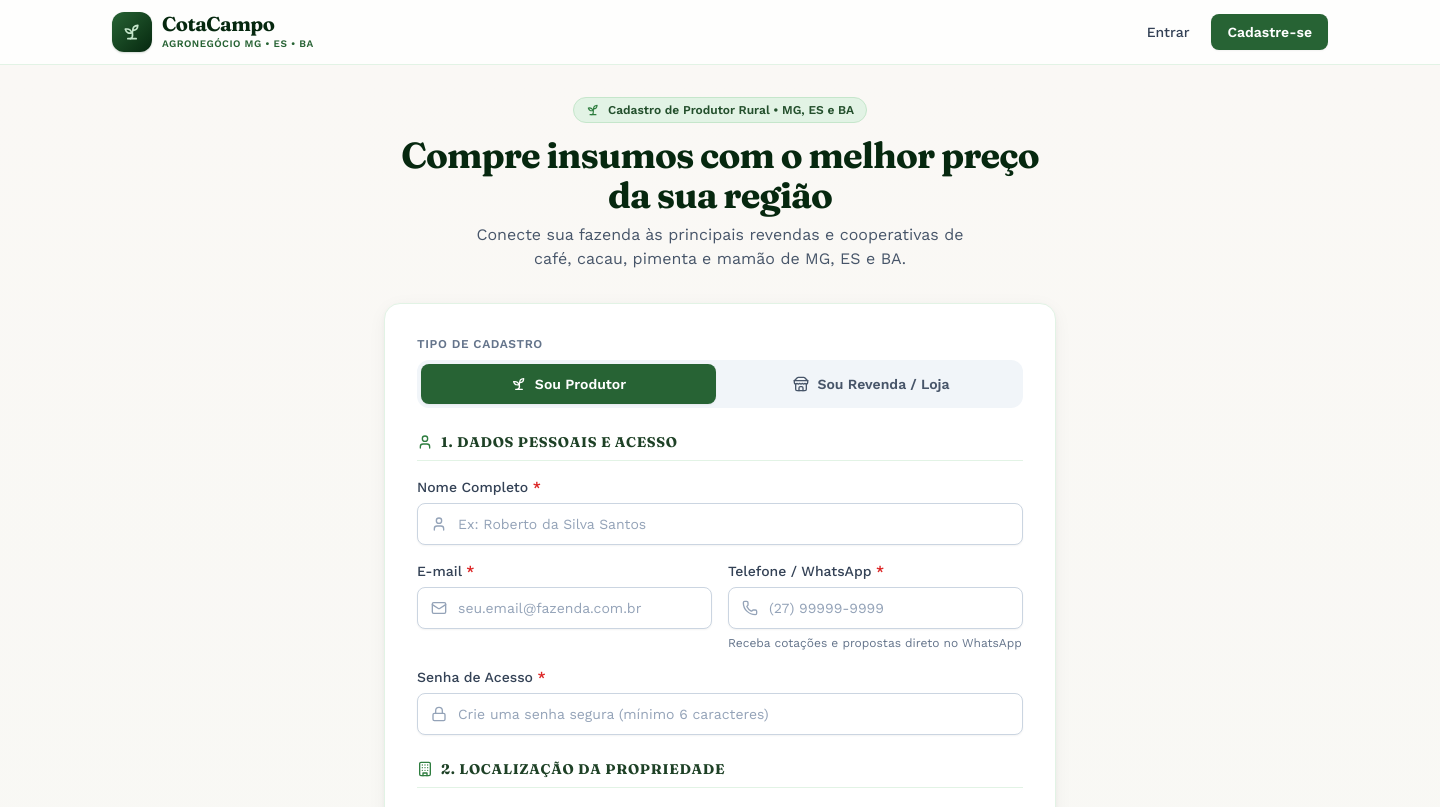
RegisterPage (US01 & US01.1 - Detalhamento de Área Plantada e Escala por Cultura) › deve aplicar máscara no WhatsApp conforme o produtor digita
This screenshot has width=1440, height=807.
In the field labelled "Telefone / WhatsApp *": coordinates (876, 608) [728, 587, 1023, 629], type "27998"
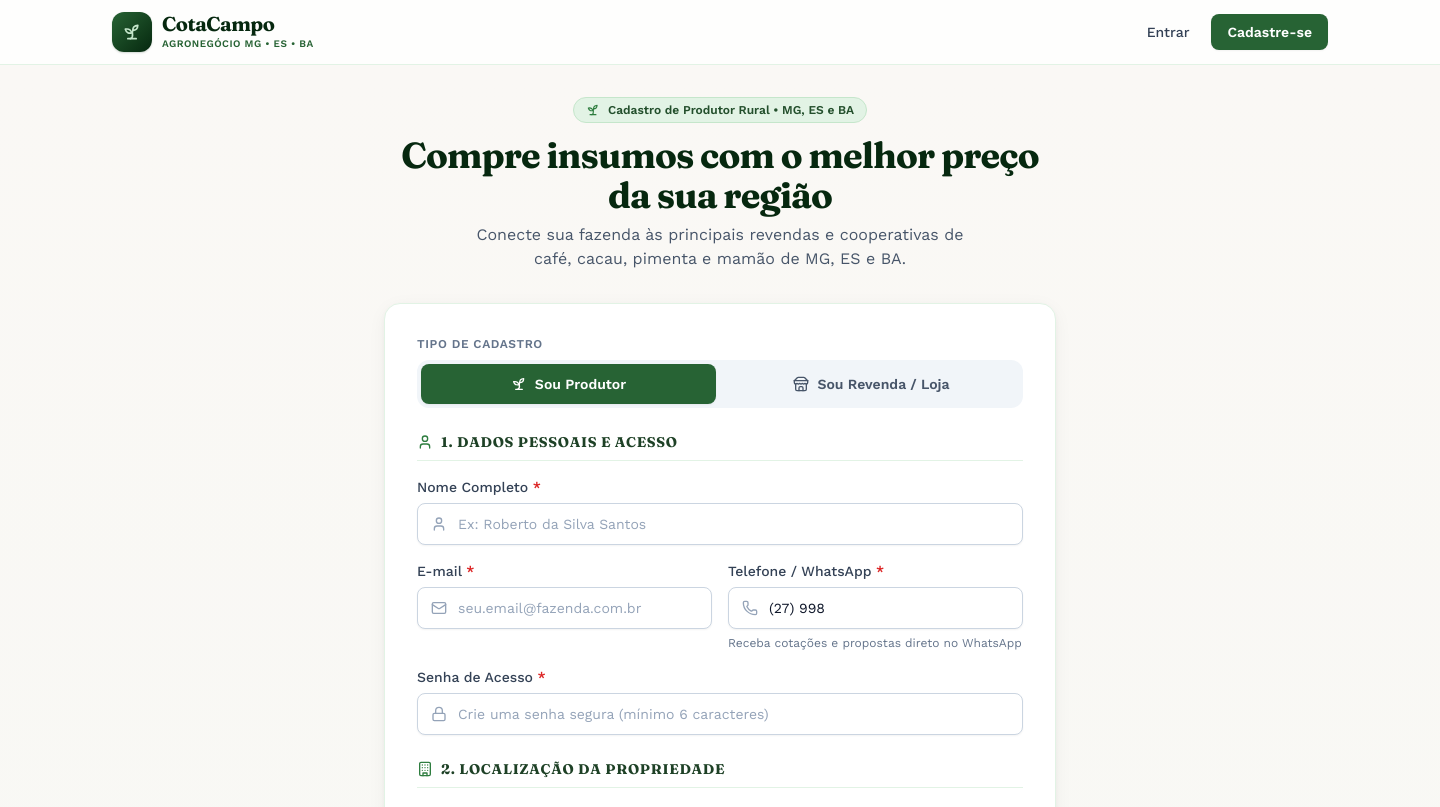
Now the field labelled "Telefone / WhatsApp *" holds "(27) 998"
Replace the text in the field labelled "Telefone / WhatsApp *" with "27998765432": coordinates (876, 608) [728, 587, 1023, 629]
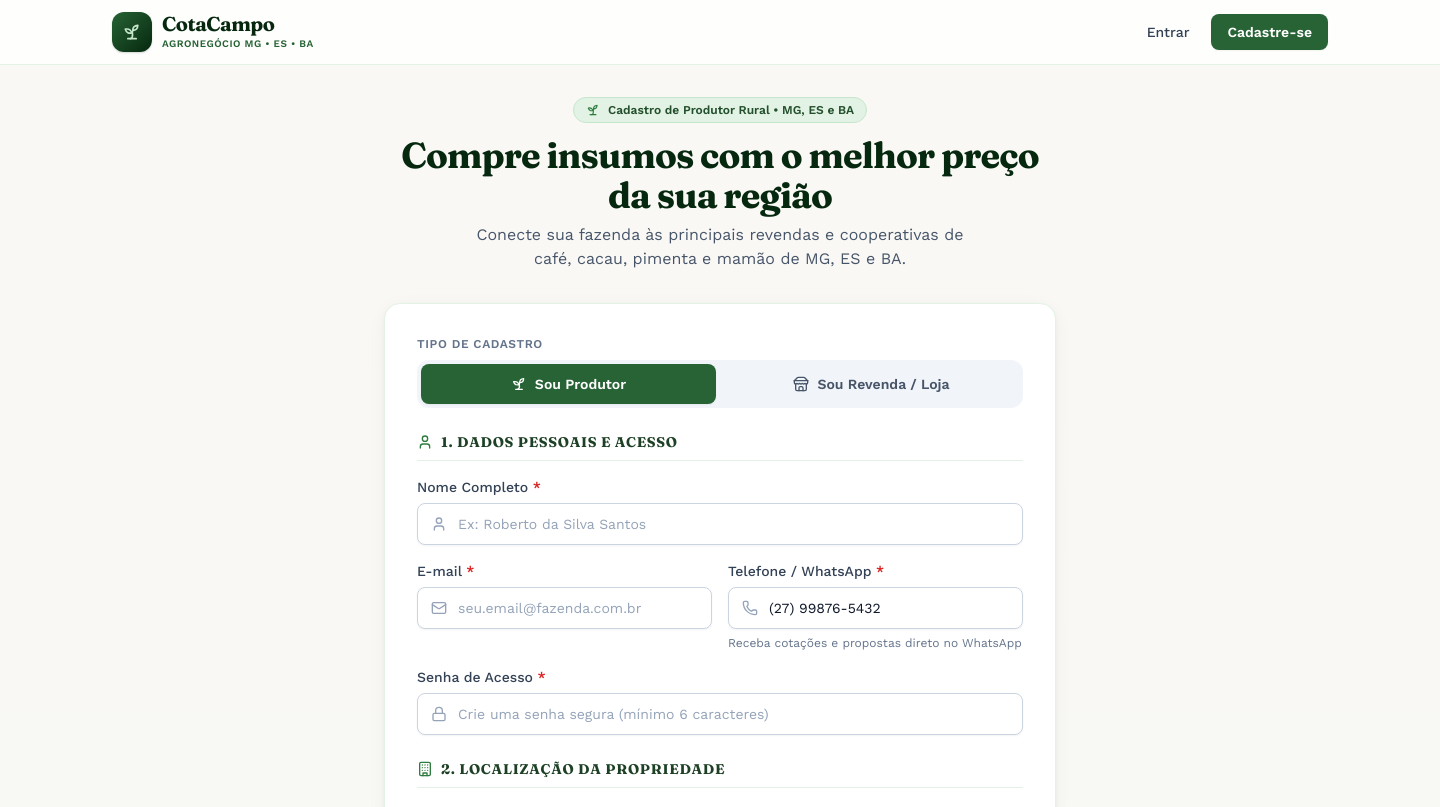
Now the field labelled "Telefone / WhatsApp *" holds "(27) 99876-5432", box [728, 587, 1023, 629]
